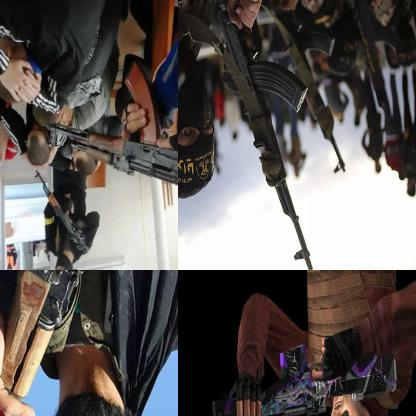rifle: (217, 0, 319, 269), (47, 62, 177, 216), (178, 340, 398, 415), (0, 270, 89, 415), (274, 9, 349, 175), (348, 0, 399, 134), (35, 167, 90, 253), (401, 0, 415, 118)
